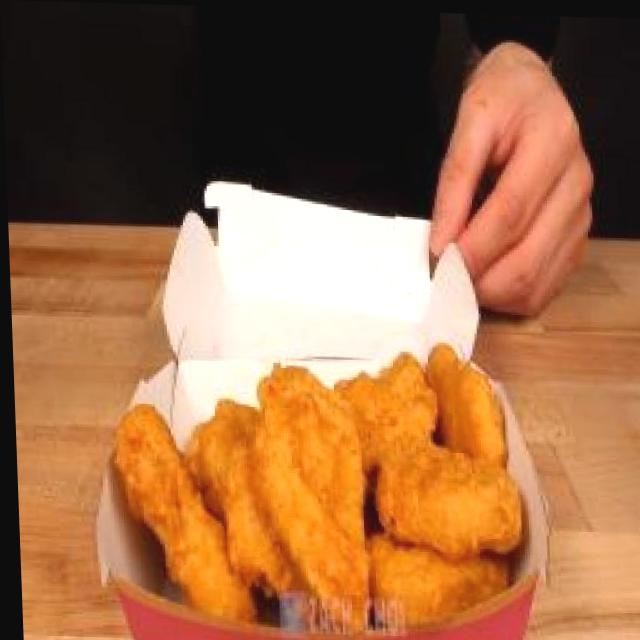nugget: (95, 269, 526, 640)
